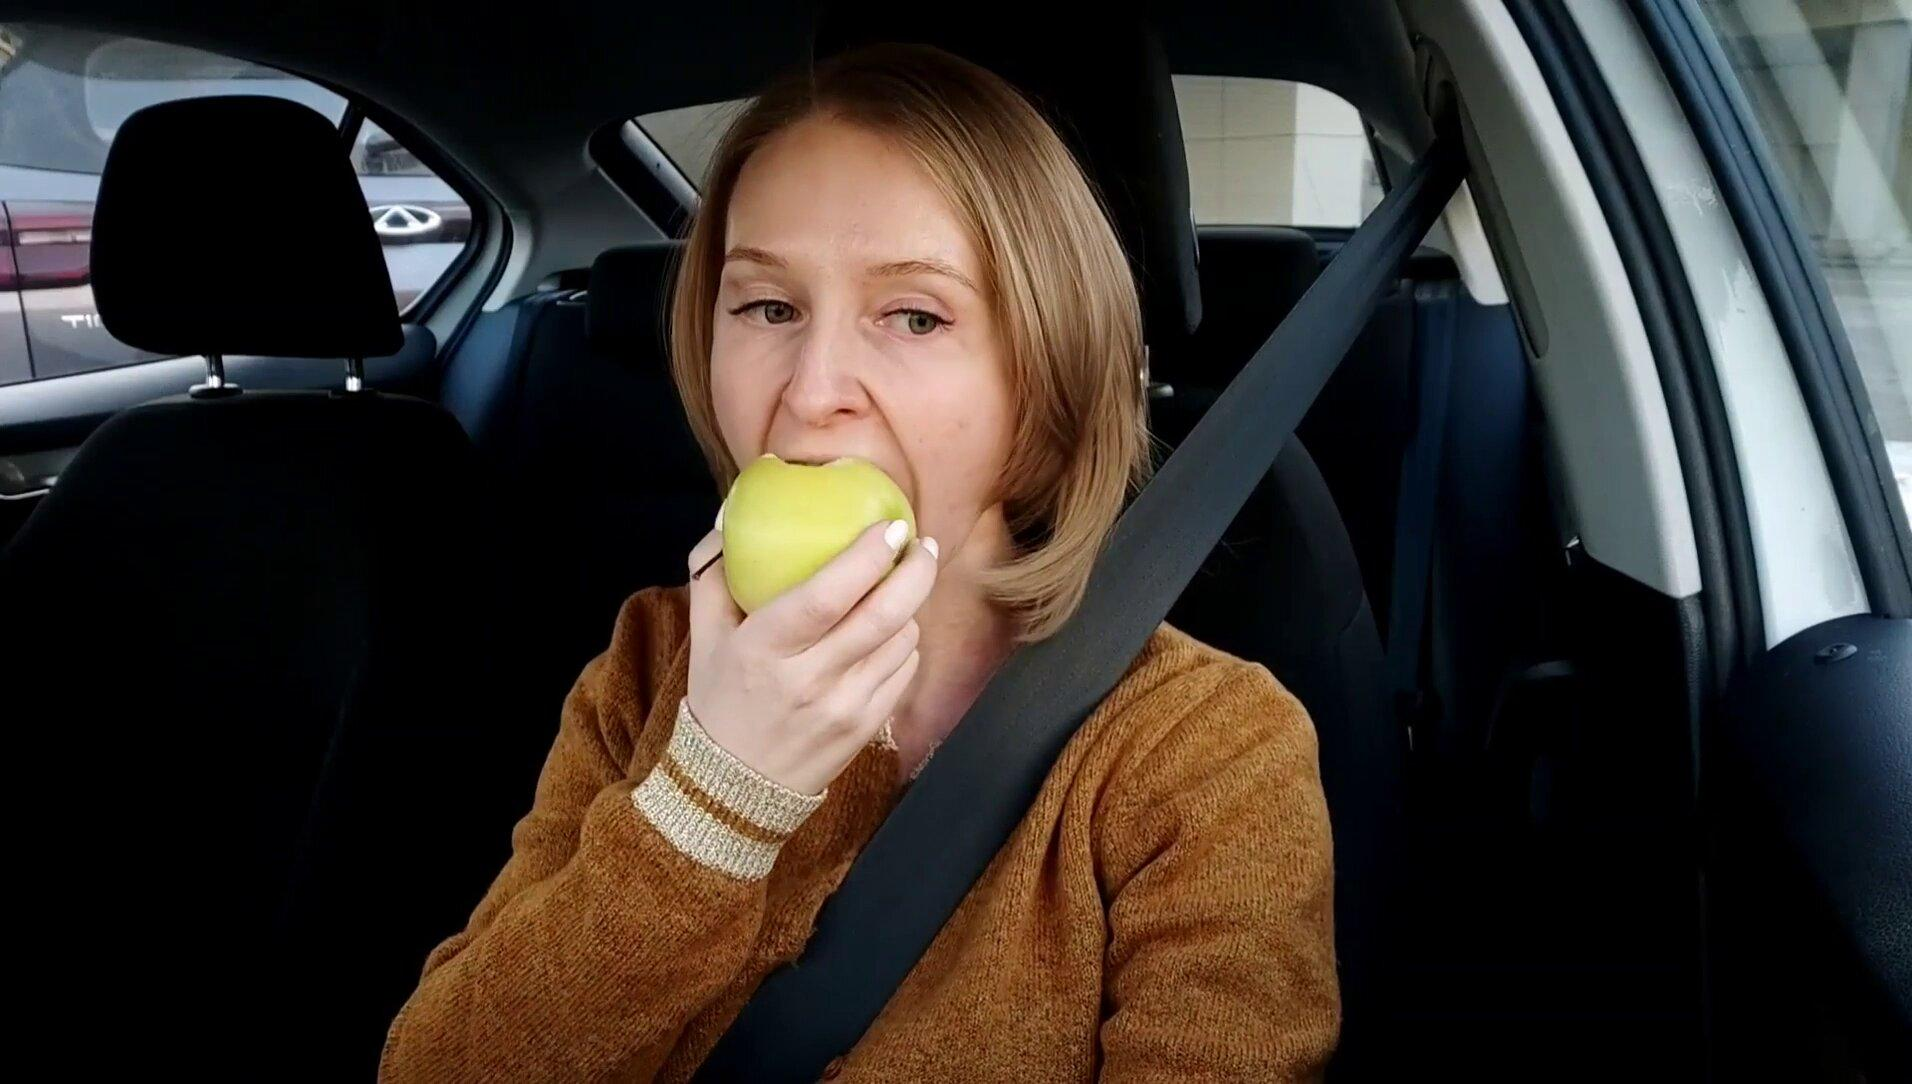Eating: (717, 441, 930, 629)
